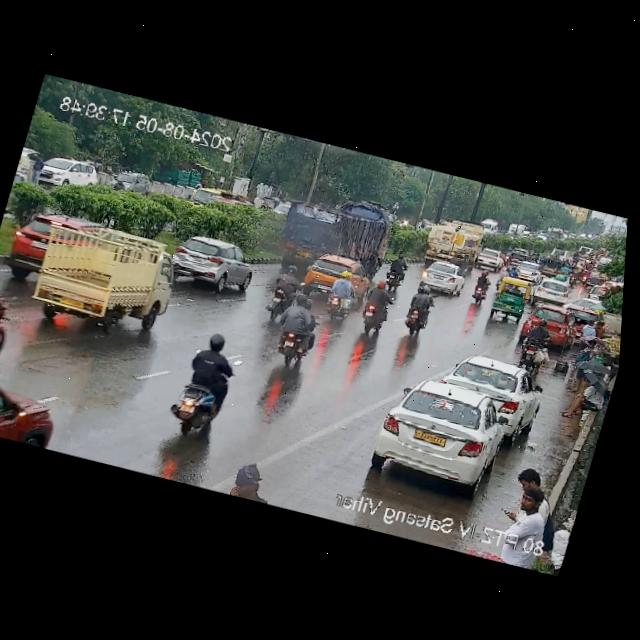car: (361, 371, 531, 499), (436, 350, 547, 428), (165, 233, 260, 296), (0, 372, 70, 449), (34, 152, 105, 198), (8, 207, 52, 274), (518, 303, 576, 346), (484, 276, 532, 322), (414, 258, 469, 298), (303, 250, 337, 299), (527, 276, 574, 308), (107, 167, 152, 197), (470, 245, 507, 271), (516, 260, 540, 282), (541, 255, 562, 278), (259, 195, 277, 212), (512, 247, 529, 264)
motorcycle: (165, 325, 245, 439), (271, 290, 323, 366), (258, 263, 303, 322), (396, 284, 443, 337), (357, 276, 393, 334), (325, 272, 362, 324), (510, 314, 554, 356), (0, 274, 19, 359), (565, 251, 595, 286), (383, 254, 407, 294), (467, 270, 494, 305), (555, 260, 571, 282), (530, 246, 548, 264), (499, 264, 518, 278), (502, 247, 513, 263)
person: (221, 456, 291, 507), (495, 488, 554, 547), (558, 372, 613, 424), (511, 465, 549, 497), (572, 316, 603, 349)
truck: (29, 213, 183, 338), (270, 196, 391, 282), (409, 210, 487, 270)
